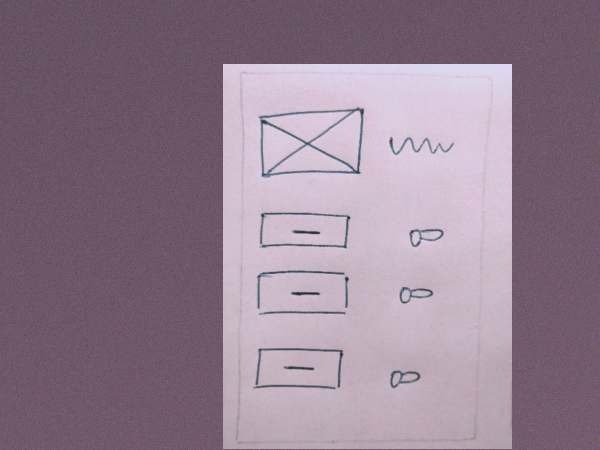button: (251, 265, 352, 322), (251, 342, 346, 396), (253, 207, 353, 257)
image: (255, 106, 366, 183)
switch: (402, 219, 449, 257), (386, 362, 427, 398), (396, 278, 435, 313)
text: (384, 128, 456, 166)
